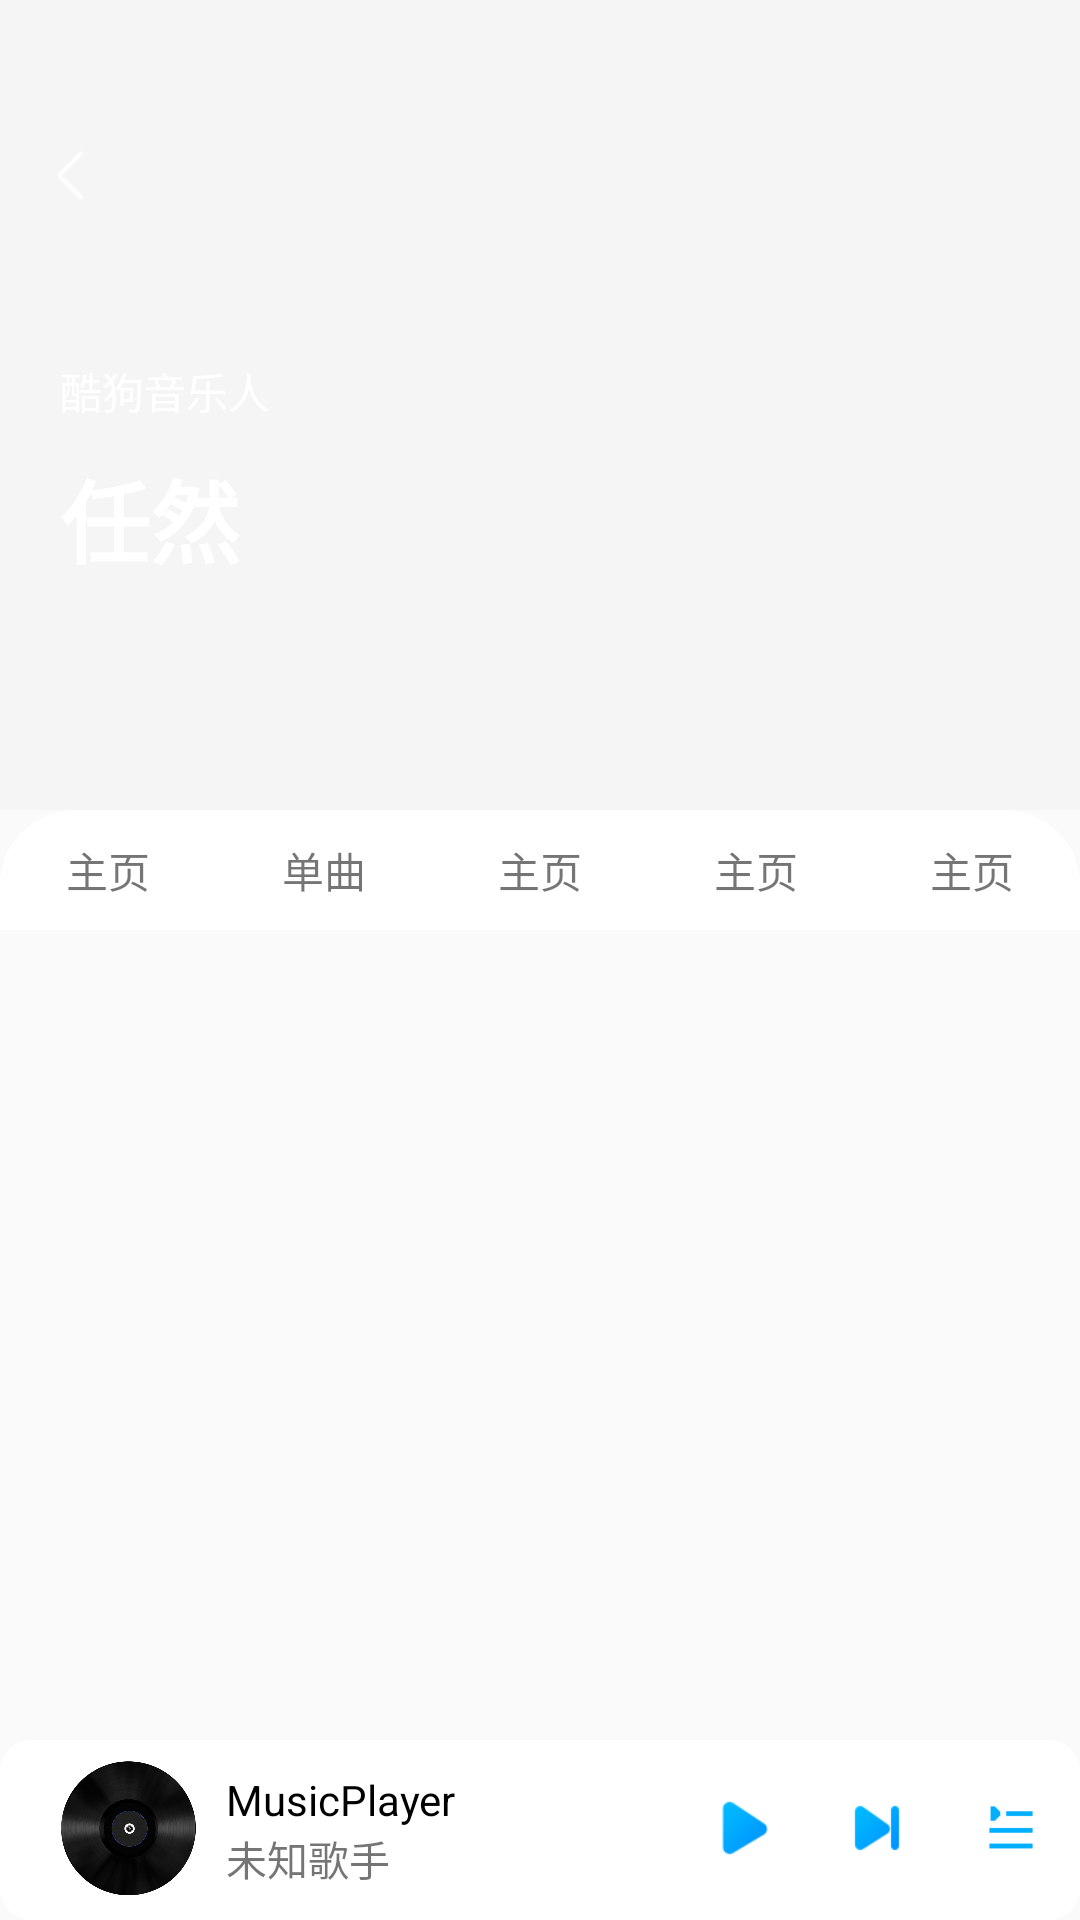

Where to tap for icons on this 1080px×1920px app screen, as [x,y]:
musiclist: [1011,1827]
next: [877,1828]
recode: [128,1828]
